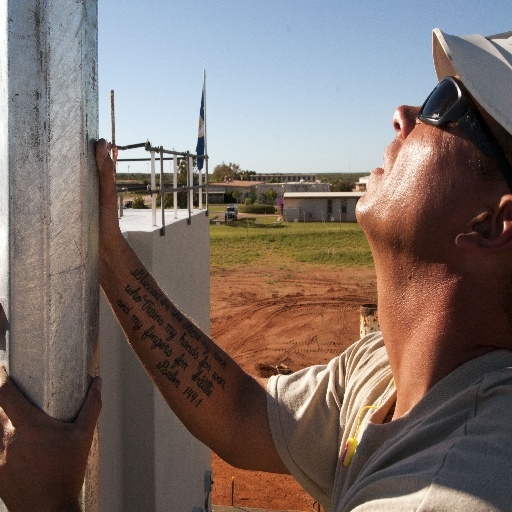hand: (0, 359, 104, 511), (93, 135, 119, 286)
